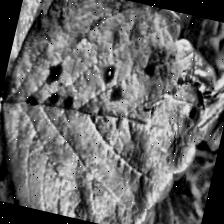Leaf Spot: (0, 0, 224, 224), (0, 0, 96, 115), (81, 0, 224, 75), (104, 156, 211, 224), (0, 86, 54, 208)
